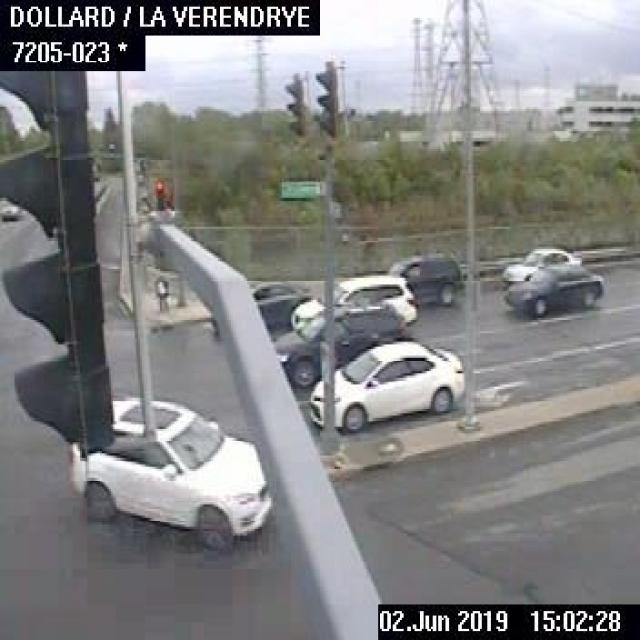pedestrian: (151, 270, 172, 315)
vehicle: (69, 398, 269, 549), (310, 340, 464, 431), (272, 300, 412, 382), (286, 272, 420, 338), (208, 278, 316, 339), (501, 268, 604, 313), (382, 253, 465, 308), (498, 246, 582, 286), (0, 198, 16, 218)
